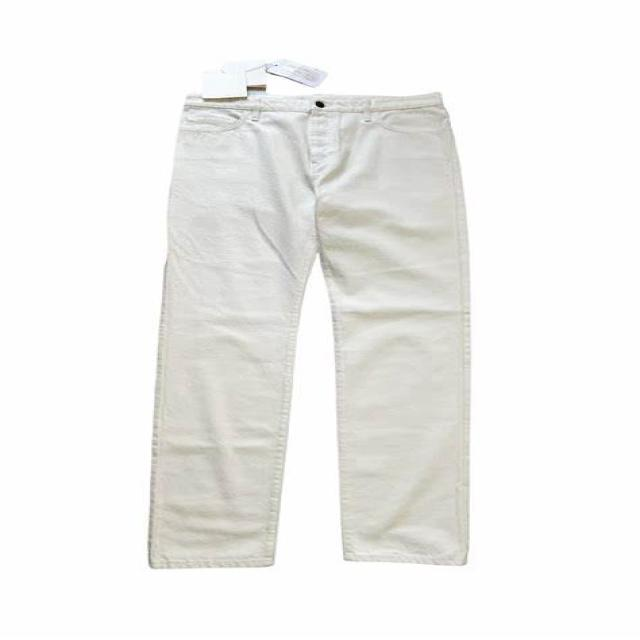long-pants: (141, 90, 473, 574)
